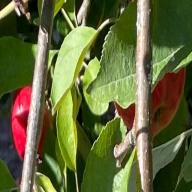Apples: (114, 65, 186, 135), (12, 85, 49, 160)
